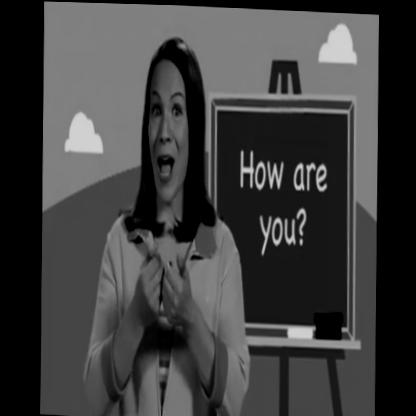HowAreYou: (110, 214, 211, 364)
